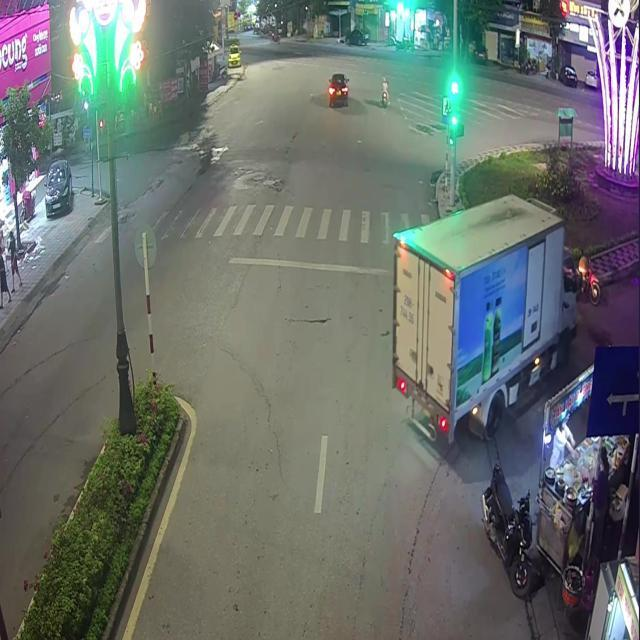car: (392, 194, 575, 442)
green_light: (450, 77, 461, 123)
stop_line: (228, 256, 440, 277)
